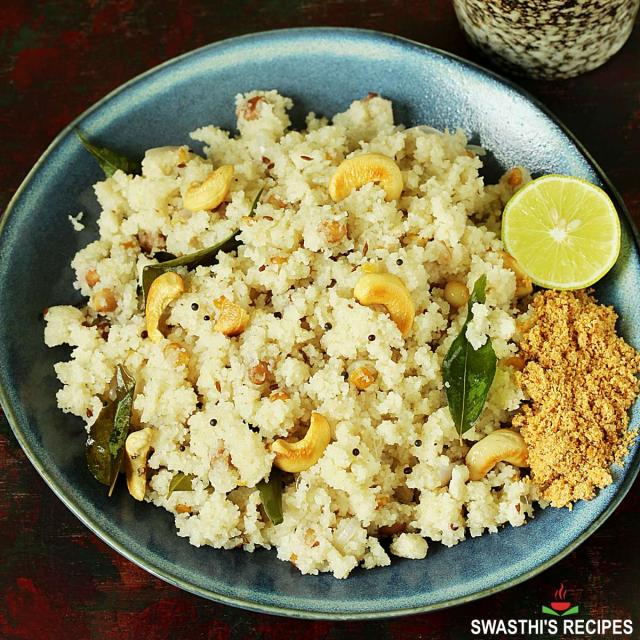UPMA: (40, 92, 638, 576)
